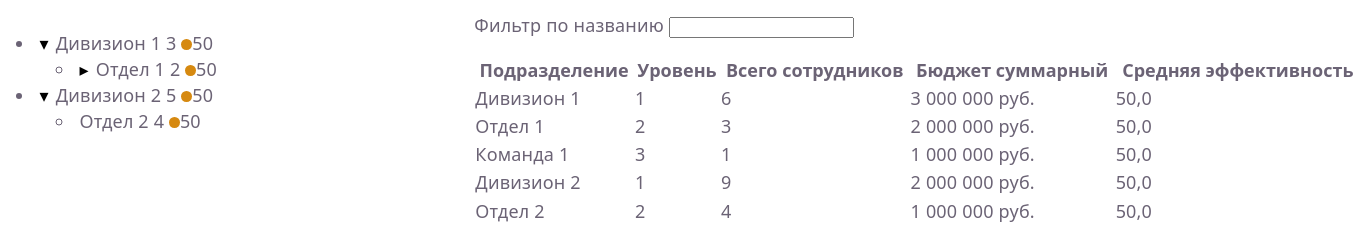
Test: OrgTreeScreen: выделение узла по клику на строку › AC-002-10: клик по строке выделяет её, отмечает узел в дереве, раскрывает свёрнутых предков и прокручивает к узлу
The width and height of the screenshot is (1361, 239).
Click the button named "Свернуть Дивизион 1": (44, 43) [40,30,48,56]
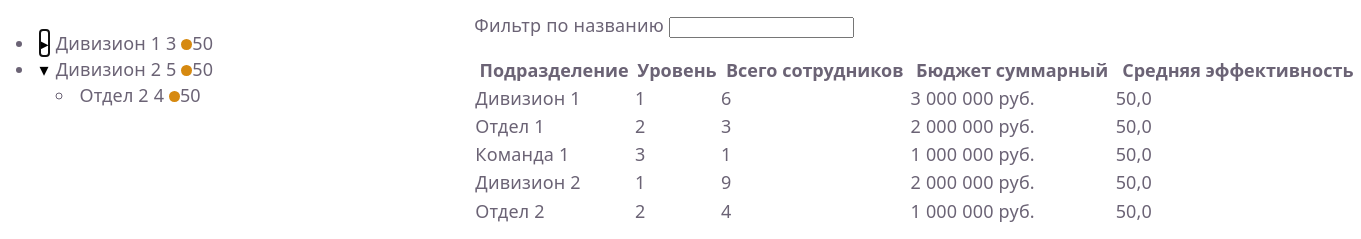
Click the row "Команда 1 3 1 1 000 000 руб. 50,0": (918, 154) [474,140,1360,168]
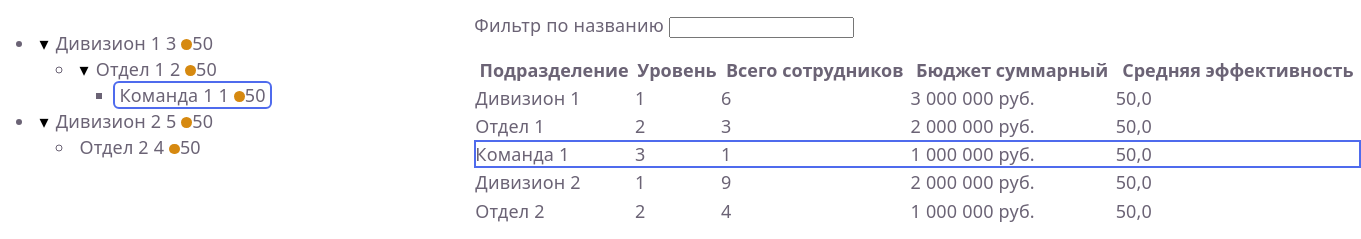
Result: the text "Команда 1" is shown at [120,83,214,107]
